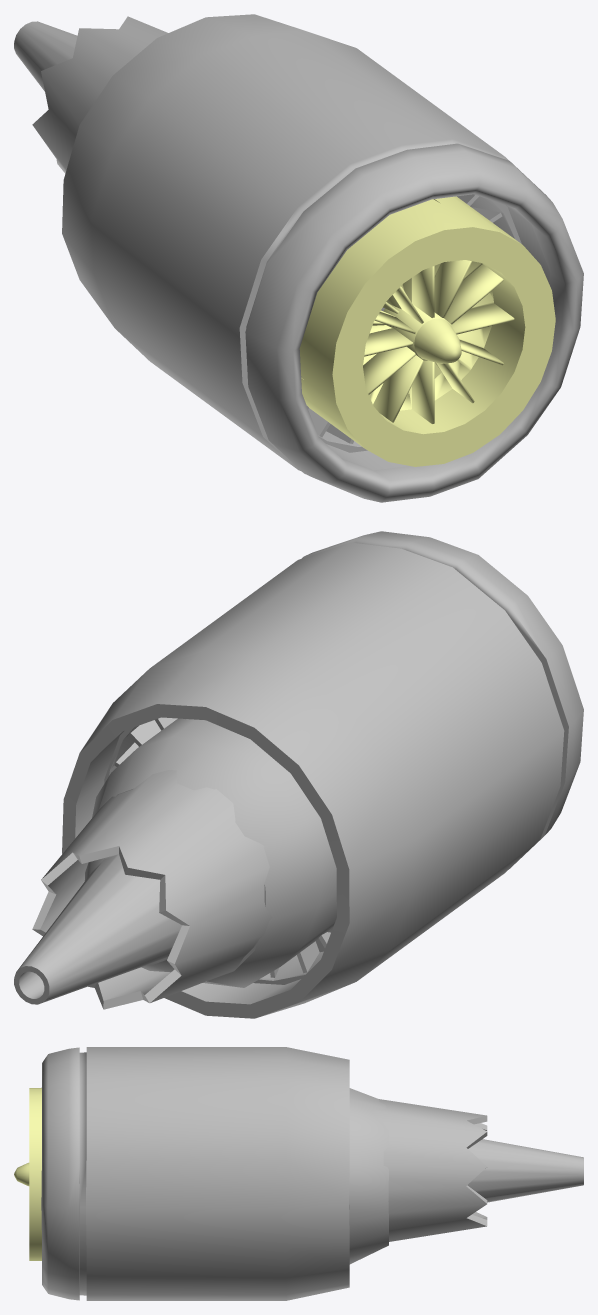
File: engines.glb
3 renders of one model, top to bottom at view 1: azimuth 30°, elevation 25°; view 2: azimuth 150°, elevation 25°; view 3: azimuth 270°, elevation 25°, orthographic. The views are drawn at different scales.
Visible parts, largest first — view 1: Engine3, Engine2; view 2: Engine3, Engine1; view 3: Engine3, Engine1, Engine2.
Part boxes in pixels (box(x1,y1,x2,y2)): Engine3: box(14, 14, 583, 502); Engine2: box(299, 196, 555, 466); Engine3: box(14, 531, 583, 1018); Engine1: box(84, 718, 336, 987); Engine3: box(41, 1047, 583, 1300); Engine1: box(349, 1088, 388, 1264); Engine2: box(14, 1088, 41, 1260).
Bounding box in the file's own units: 1.45 × 1.45 × 3.29.
